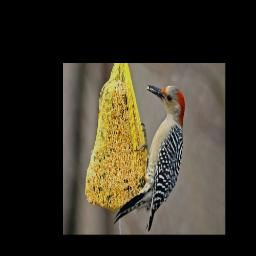Woodpecker: (110, 78, 196, 230)
